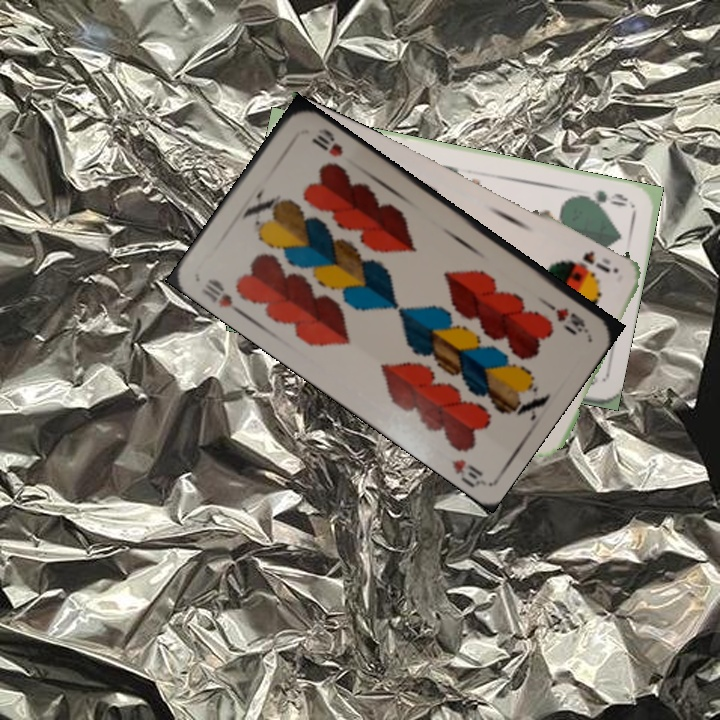GO: (574, 186, 630, 210)
H10: (196, 275, 246, 318), (537, 295, 590, 335)
SO: (578, 247, 613, 276)
